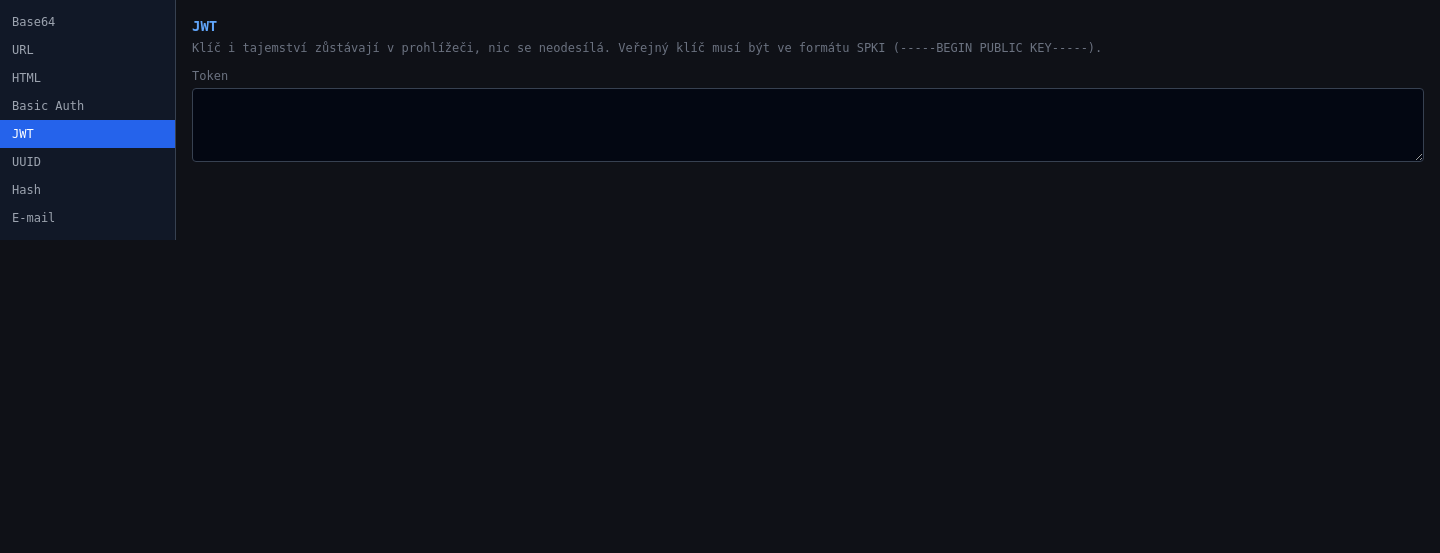
Test: ToolsView › JWT nástroj dekóduje vložený token
Expected: the heading "JWT" is shown, [192,18,217,34]
Type "eyJhbGciOiJIUzI1NiIsInR5cCI6IkpXVCJ9.eyJzdWIiOiIxMjM0NTY3ODkwIiwibmFtZSI6IkphbiBOZW1lYyIsImlhdCI6MTUxNjIzOTAyMn0.keAAZPonJ3eodJzQoZTnC42n6QqyLCANJsfjUuqnUJ4" into the text box labelled "Token" at (808, 125), box [192,88,1424,162]
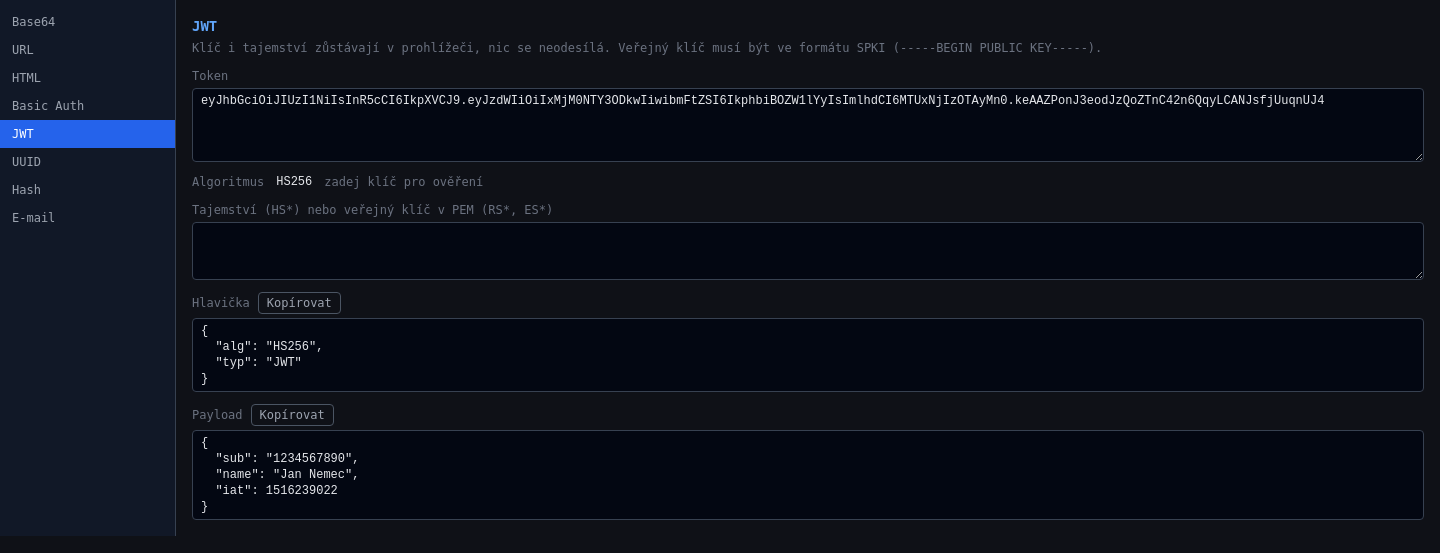
Expected: the text "HS256" is shown, [276,174,312,190]
Expected: the text "Jan Nemec" is shown, [201,436,359,514]
